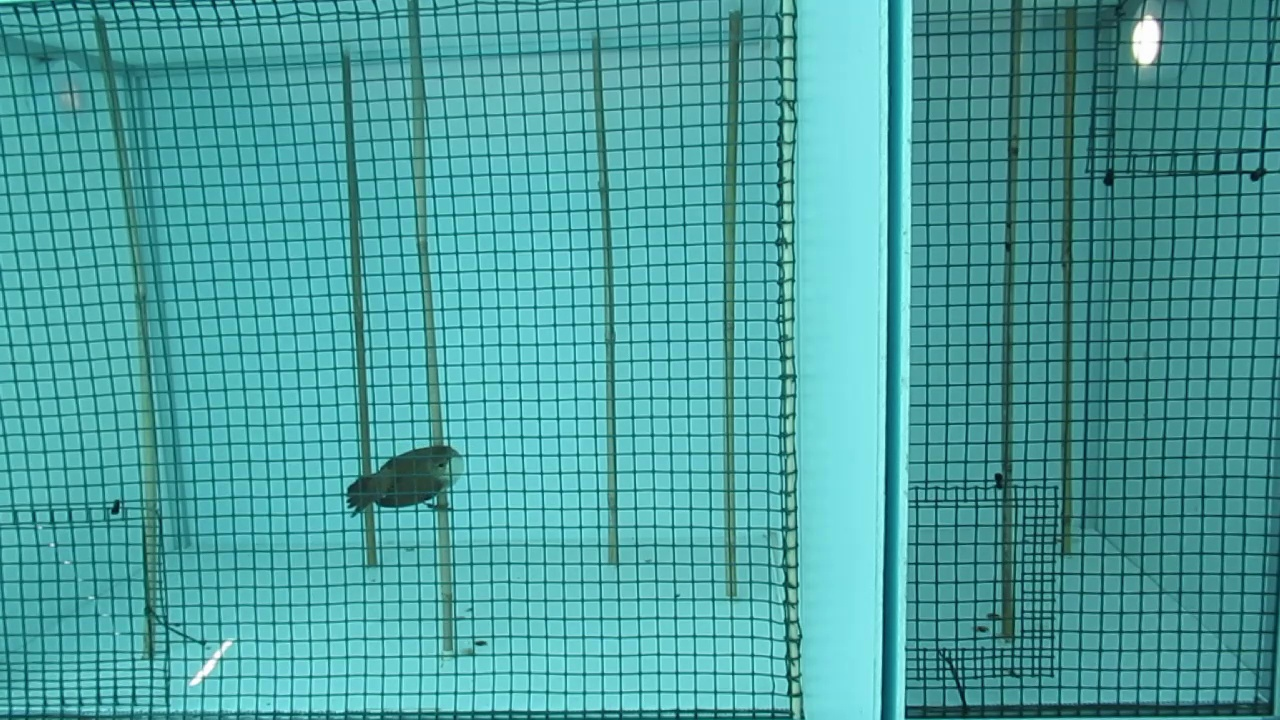bird: (342, 442, 465, 520)
stick: (89, 13, 166, 659), (403, 0, 456, 650), (338, 53, 380, 568), (997, 0, 1027, 641), (587, 32, 622, 562), (719, 5, 742, 597), (1056, 0, 1080, 557)
